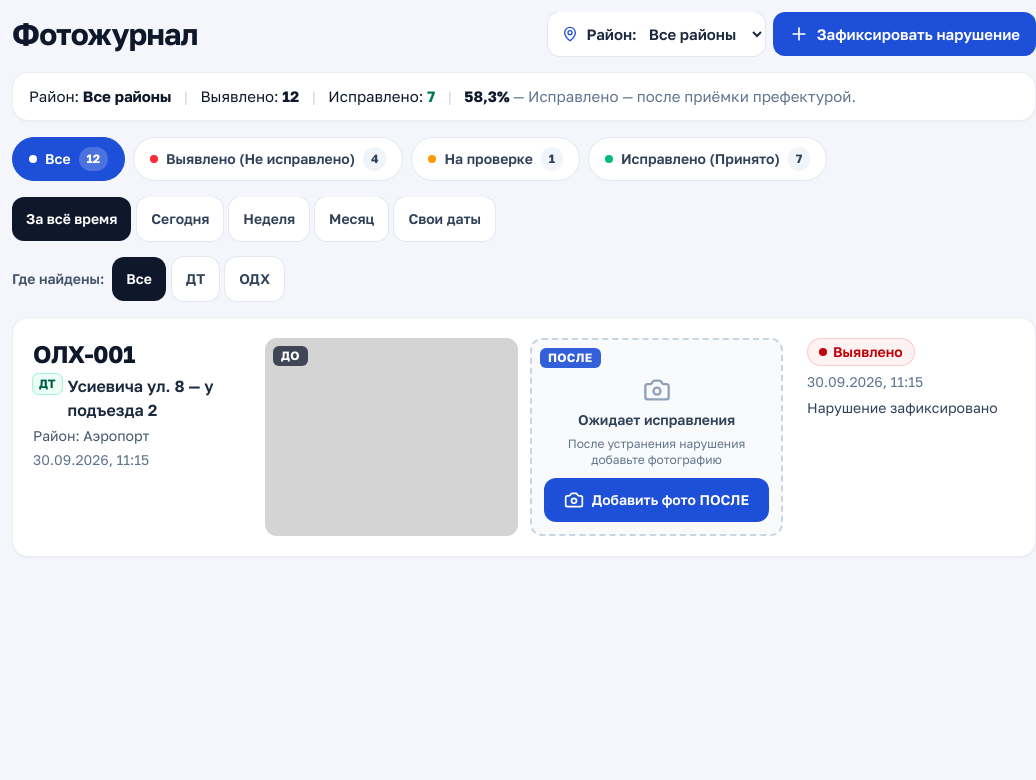
Test: JournalPage › префектура выбирает район из списка, по умолчанию — все районы
Check: the link "ОЛХ-001" is shown, box [33,338,135,370]
Check: the element with test id "summary-strip" shows "Район: Все районы", box [12,72,1035,120]
Select "Сокол" in the dropdown labelled "Район". click: (705, 34)
box: [645,12,765,56]
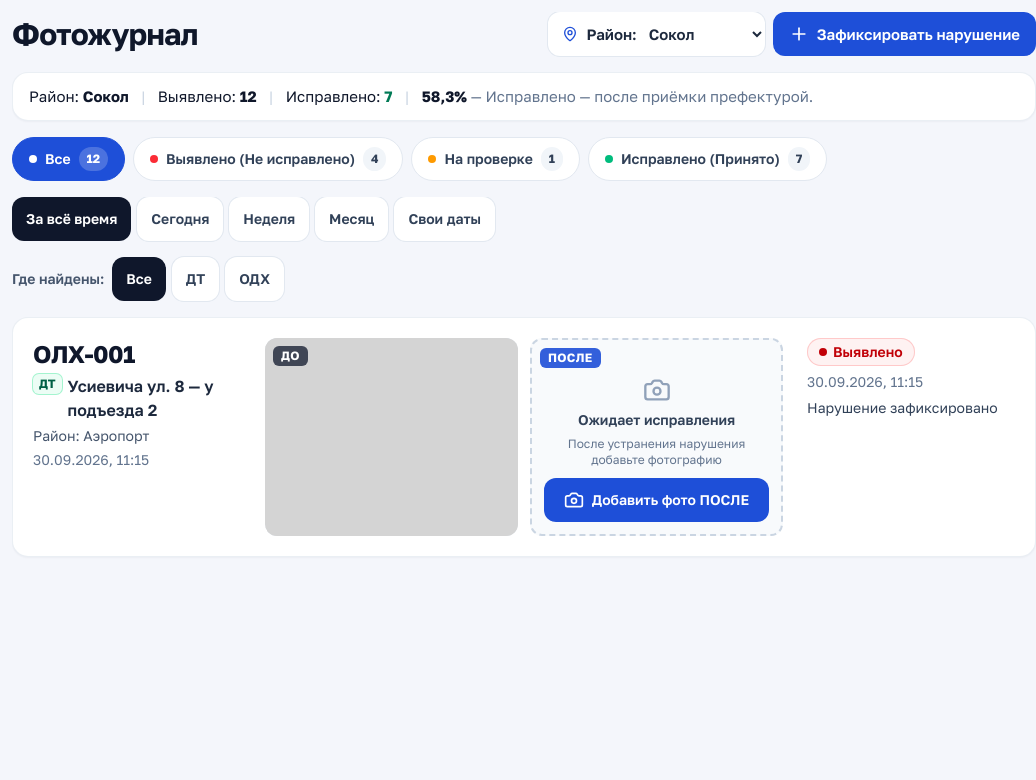
Check: the element with test id "summary-strip" shows "Район: Сокол", box [12,72,1035,120]
